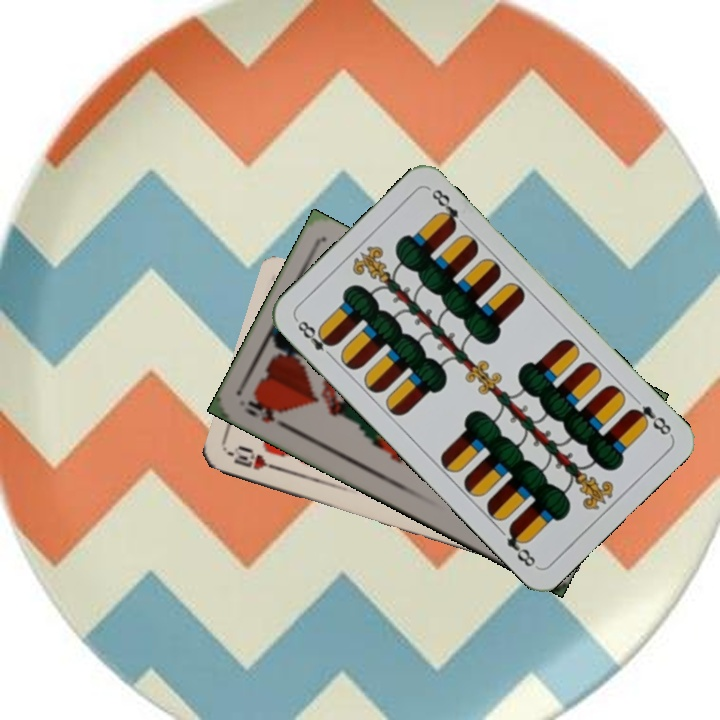E8: (292, 315, 338, 362), (626, 401, 674, 438)
H10: (225, 444, 283, 473)
HO: (241, 396, 294, 434)
